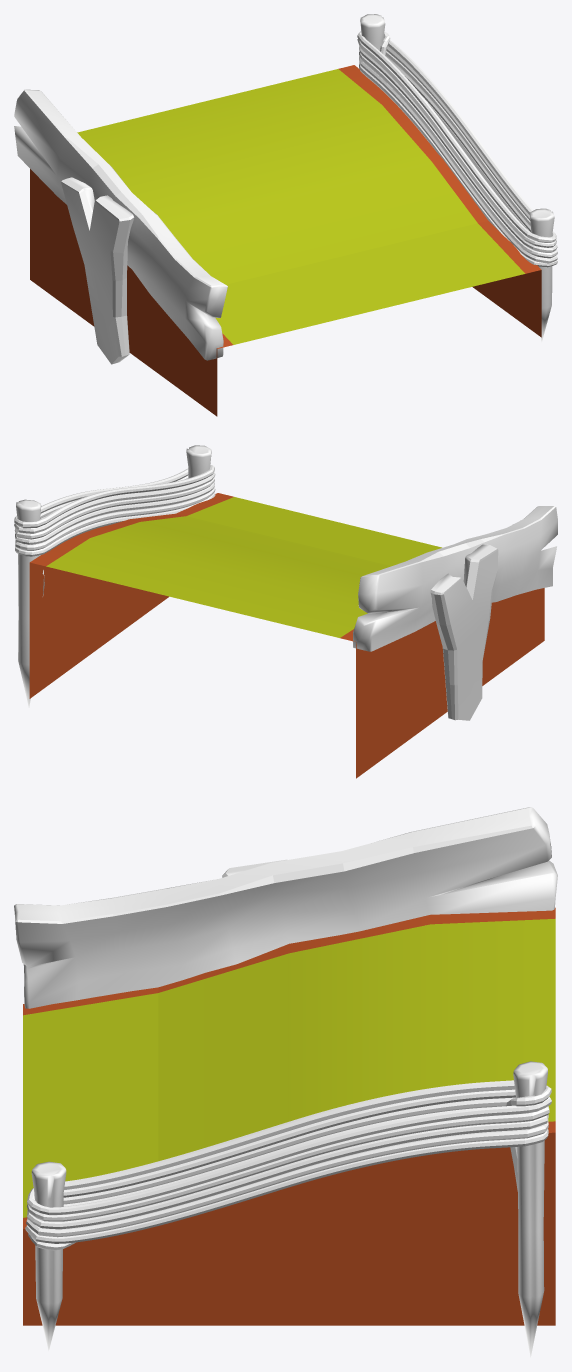
The model's file is Straight_UpH_Begin_End01.fbx.
The picture shows the model from 3 angles, top to bottom: view 1: azimuth 30°, elevation 25°; view 2: azimuth 150°, elevation 25°; view 3: azimuth 270°, elevation 25°; orthographic projection. The views are drawn at different scales.
Parts seen in each view (by area): view 1: Cube.007, Cube.004, Cube.003, Cube.006; view 2: Cube.007, Cube.003, Cube.006, Cube.004; view 3: Cube.007, Cube.003, Cube.006, Cube.004.
Boxes of the visible parts, left/top/right/bottom form: Cube.007: left=30, top=65, right=493, bottom=381; Cube.004: left=169, top=221, right=541, bottom=416; Cube.003: left=14, top=89, right=227, bottom=364; Cube.006: left=357, top=14, right=557, bottom=341; Cube.007: left=29, top=513, right=496, bottom=778; Cube.003: left=353, top=506, right=557, bottom=720; Cube.006: left=14, top=445, right=215, bottom=707; Cube.004: left=176, top=493, right=544, bottom=675; Cube.007: left=158, top=907, right=555, bottom=1325; Cube.003: left=14, top=807, right=557, bottom=1008; Cube.006: left=25, top=1061, right=551, bottom=1357; Cube.004: left=23, top=987, right=158, bottom=1325.
Bounding box in the file's own units: 233 × 128 × 204.
